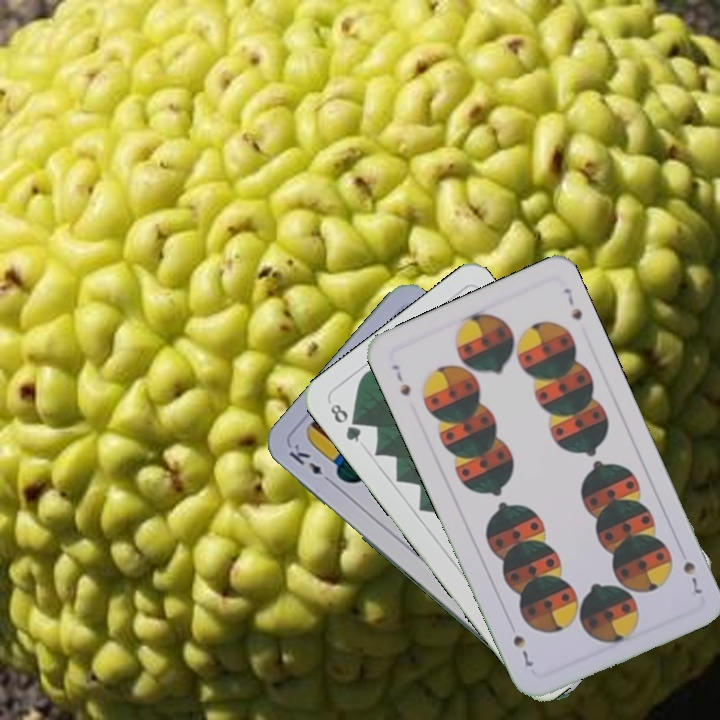EK: (284, 439, 336, 487)
G8: (326, 399, 364, 445)
S7: (679, 557, 706, 598), (388, 360, 413, 399)
